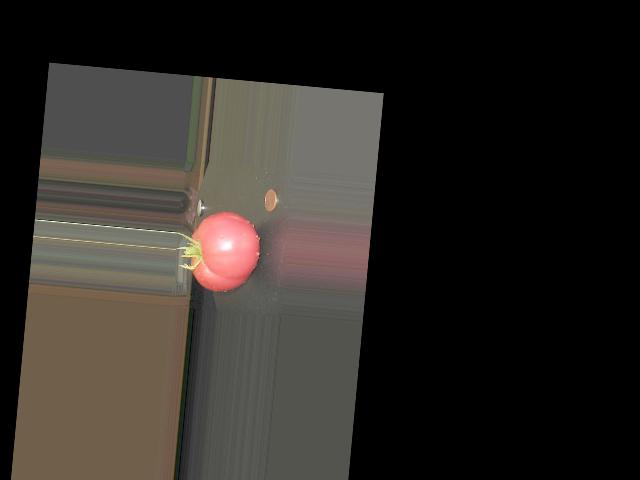tomato: (187, 209, 263, 295)
